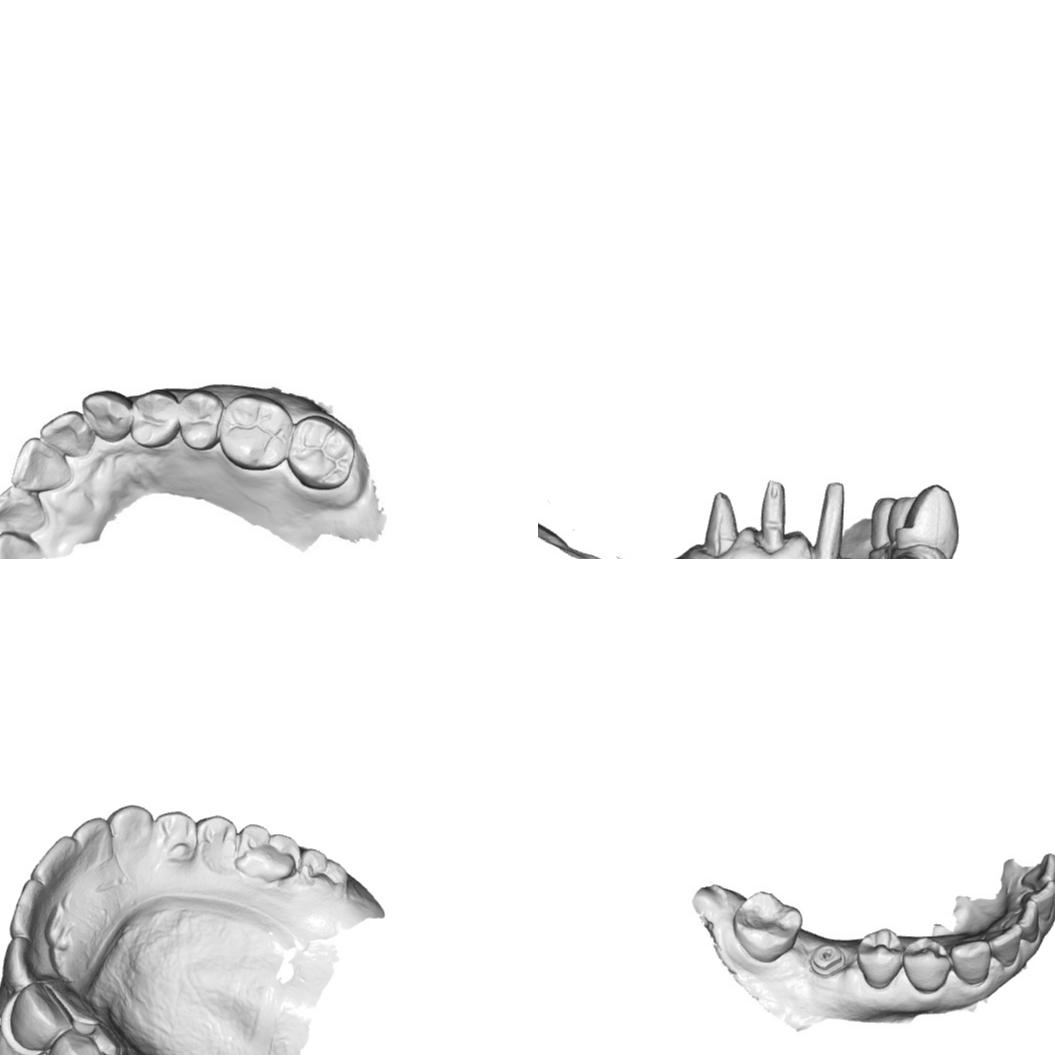canine: (9, 983, 76, 1053), (107, 802, 159, 863), (82, 385, 134, 444), (950, 940, 991, 986)
crown: (807, 479, 852, 559), (754, 476, 796, 556), (698, 487, 742, 559)
implant_minus: (809, 942, 846, 978)
incisor: (12, 435, 68, 497), (7, 877, 61, 936), (36, 408, 94, 461), (0, 483, 49, 536), (31, 833, 81, 882), (3, 939, 49, 989), (70, 815, 111, 864), (1001, 898, 1040, 942), (986, 923, 1022, 968), (1019, 880, 1055, 921), (1020, 852, 1055, 888)
molar: (215, 394, 296, 471), (286, 414, 357, 491), (731, 889, 803, 963), (893, 483, 960, 559), (233, 821, 301, 885), (293, 846, 352, 899)
premolar: (122, 392, 186, 450), (176, 386, 230, 454), (856, 927, 904, 989), (902, 936, 952, 993), (154, 806, 200, 865), (196, 815, 237, 863), (885, 493, 917, 554), (49, 1029, 118, 1055), (868, 493, 897, 551)
